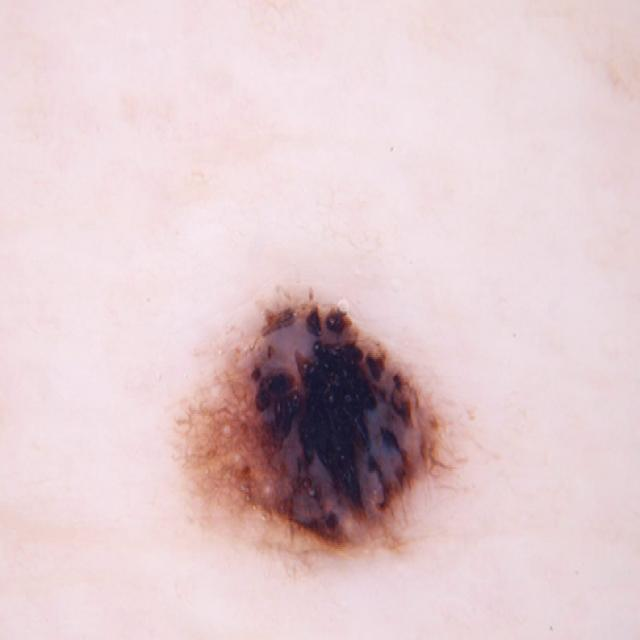Keratosis: (170, 225, 492, 614)
